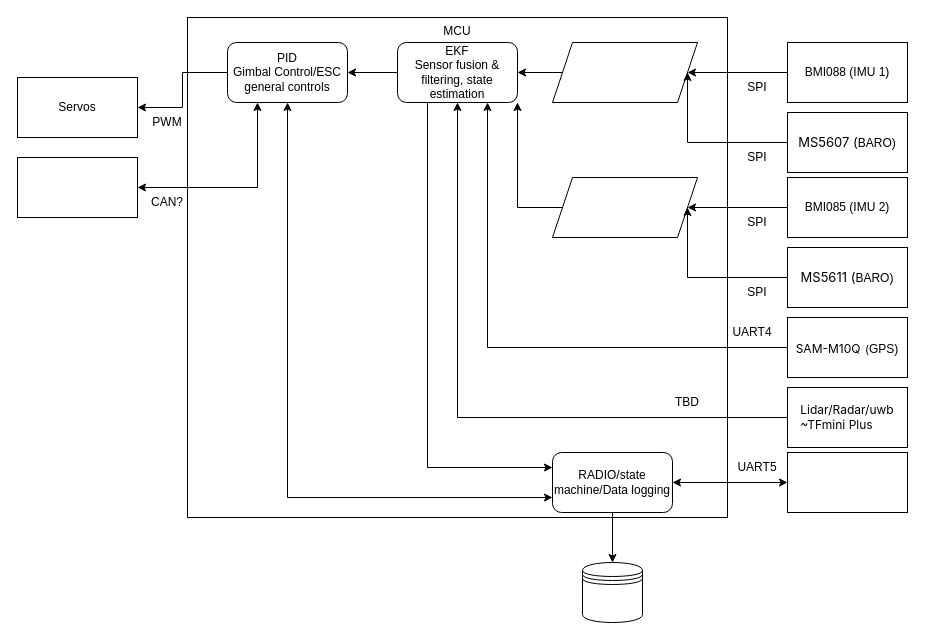
This 925x640 diagram has some shape labels left out. Here are the shapes that lost their labels. From the top down, the box of each, then its label:
(552, 42, 698, 102): SPI1 job queue DMA INTC pattern
(16, 156, 138, 218): Speed controllers
(552, 176, 698, 238): SPI2 job queue DMA INTC pattern
(786, 452, 908, 512): RFD 900x (RADIO)
(582, 562, 642, 622): SD card
